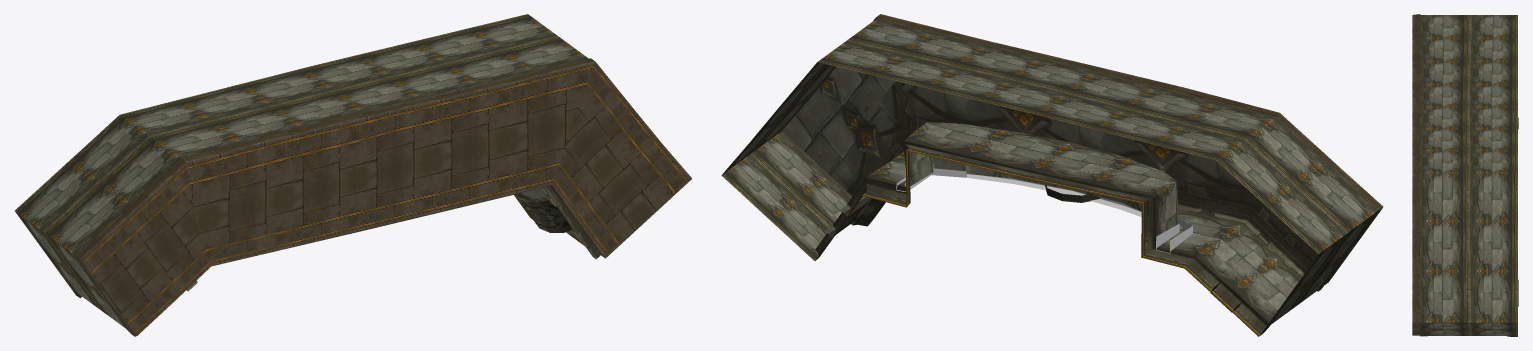
Rendered from huodong_zhanchang_01_qiangti_02a.obj.
3 renders of one model, left to right at view 1: azimuth 30°, elevation 25°; view 2: azimuth 150°, elevation 25°; view 3: azimuth 270°, elevation 25°, orthographic. The views are drawn at different scales.
Parts seen in each view (by area): view 1: huodong_zhanchang_01_qiangti_02a; view 2: huodong_zhanchang_01_qiangti_02a; view 3: huodong_zhanchang_01_qiangti_02a.
Part boxes in pixels (left/top/right/bottom): huodong_zhanchang_01_qiangti_02a: left=14, top=14, right=692, bottom=336; huodong_zhanchang_01_qiangti_02a: left=721, top=14, right=1383, bottom=336; huodong_zhanchang_01_qiangti_02a: left=1412, top=14, right=1518, bottom=336.
Size of the model in its own units: 1719 by 553 by 324.
